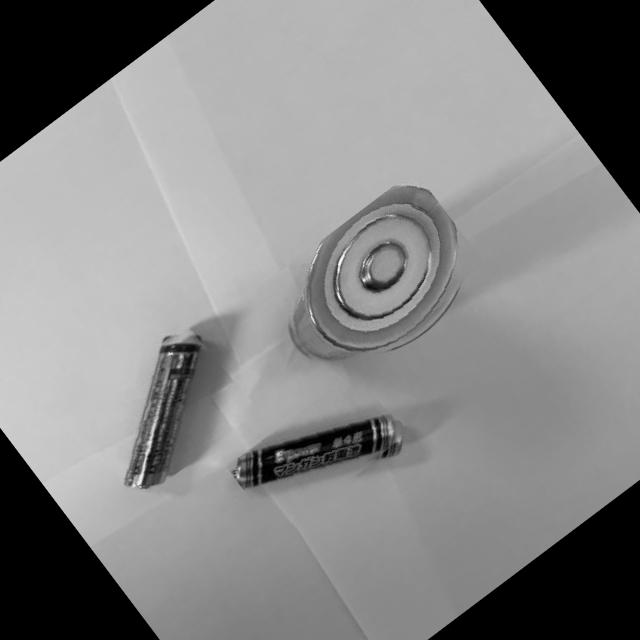Hazard: (254, 169, 496, 398), (66, 315, 259, 501), (226, 366, 414, 539)
